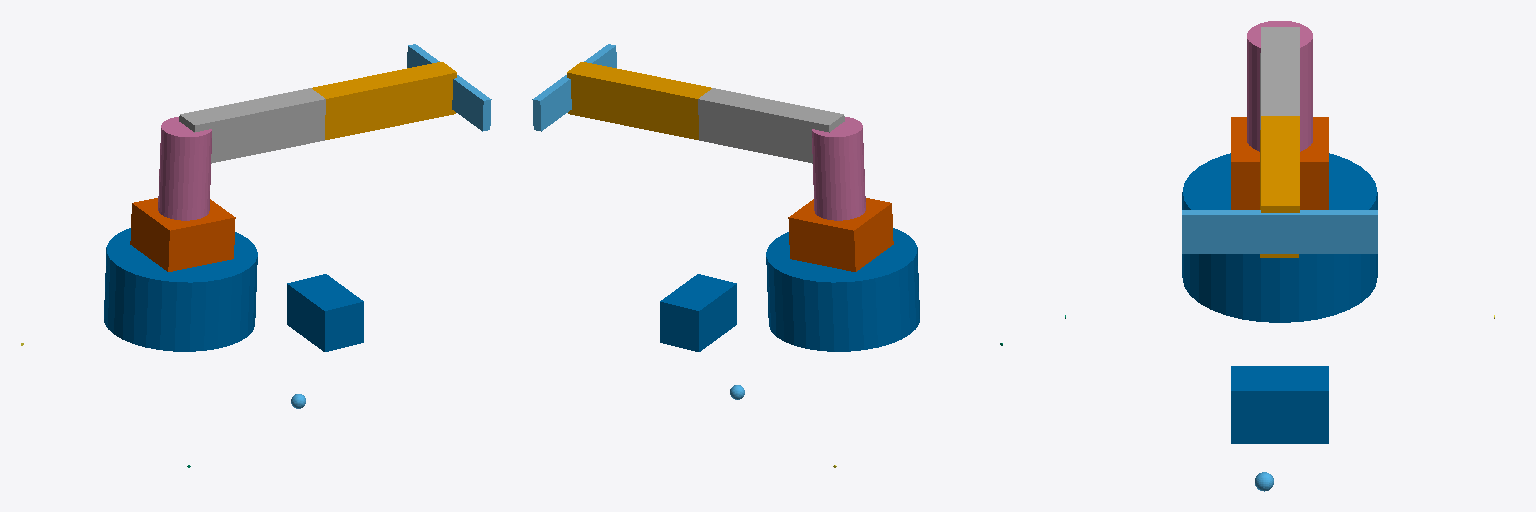
URDF robot description (2wheels):
<?xml version="1.0"?>
<robot name="2wheels" xmlns:xacro="http://www.ros.org/wiki/xacro">
  
  <!-- Chassis link -->
  <link name="base_link">
    <!-- pose and inertial -->
    <pose>0 0 0 0 0 0</pose>
    <inertial>
      <mass value="10.0"/>
      <origin rpy="0 0 0" xyz="0.01 0 0.03"/>
      <inertia ixx="0.007" ixy="0" ixz="0" iyy="0.00547" iyz="0" izz="0.012023"/>
    </inertial>
    <!-- body -->
    <collision name="collision_chassis">
      <origin rpy=" 0 0 0" xyz="0.01 0 0.03"/>
      <geometry>
        <box size="0.18 0.2 0.06"/> <!-- ancho, largo, alto -->
      </geometry>
    </collision>
    <visual>
      <origin rpy="0 0 -1.5708" xyz="0.0 0 0.0"/>
      <geometry>
        <mesh filename="package://two_wheels_description/meshes/robotmodel.dae"/>
      </geometry>
      <material name="blue"/> <!-- This is only for Rviz visualization -->
    </visual>
  </link>
  
  <!-- caster joint -->
  <joint name="joint_caster" type="continuous">
    <origin rpy="0 0 0" xyz="0.085 -0.008 -0.015"/>
    <!--origin rpy="0 0 0" xyz="0.008 0.085 -0.015"/-->
    <child link="caster_wheel"/>
    <parent link="base_link"/>
    <axis rpy="0 0 0" xyz="0 0 1"/>
    <limit effort="1000" velocity="10"/>
    <joint_properties damping="0.0" friction="0.01"/>
  </joint>

  
  <!-- caster front link -->
  <link name="caster_wheel">
    <inertial>
      <mass value="0.05"/>
      <origin rpy="0 0 0" xyz="0 0 0"/>
      <inertia ixx="0.000001" ixy="0" ixz="0" iyy="0.000001" iyz="0" izz="0.000001"/>
    </inertial>
    <collision name="caster_front_collision">
      <origin rpy=" 0 0 0" xyz="0.0 0 0"/>
      <geometry>
        <sphere radius="0.0051"/>
      </geometry>
      <surface>
        <friction>
          <ode>
            <mu>0</mu>
            <mu2>0</mu2>
            <slip1>0.0</slip1>
            <slip2>0.0</slip2>
          </ode>
        </friction>
      </surface>
    </collision>
    <visual name="caster_front_visual">
      <origin rpy=" 0 0 0" xyz="0.0 0 0"/>
      <geometry>
        <sphere radius="0.005"/>
      </geometry>
    </visual>
  </link>
  <gazebo reference="caster_wheel">
    <mu1 value="0.0"/>
    <mu2 value="0.0"/>
    <kp value="10000000.0"/>
    <kd value="1.0"/>
    <fdir1 value="0 0 0"/>
    <material>Gazebo/Black</material>
    <turnGravityOff>false</turnGravityOff>
  </gazebo>
  
  



  
  
  
  <!-- XXXXXXXXXXX -->
  <!-- Right wheel -->
  <!-- XXXXXXXXXXX -->
  <!-- Joint between right wheel and chassis -->
  <joint name="joint_right_wheel" type="continuous">
    <origin rpy="-1.5707 0  0" xyz="-0.0572 -0.11 0.012"/>
    <!--origin rpy="0 1.570 0" xyz="0.11 -0.057 0.012"/-->
    <child link="link_right_wheel"/>
    <parent link="base_link"/>
    <axis rpy="0 0 0" xyz="0 0 1"/>
    <limit effort="1000" velocity="100"/>
    <joint_properties damping="0.01" friction="0.01"/>
  </joint>
  <!-- right link -->
  <link name="link_right_wheel">
    <inertial>
      <mass value="0.1"/>
      <origin rpy="0 0 0" xyz="0 0 0"/>
      <inertia ixx="0.000016458" ixy="0" ixz="0" iyy="0.000016458" iyz="0" izz="0.000016458"/>
    </inertial>
     <surface>
        <friction>
          <ode>
            <mu>0.01</mu>
            <mu2>0.01</mu2>
          </ode>
        </friction>
      </surface>
    <collision name="link_right_wheel_collision">
      <origin rpy="0 0 0" xyz="0 0 0"/>
      <geometry>
        <cylinder length="0.01" radius="0.025"/>
      </geometry>
    </collision>
    <visual name="link_right_wheel_visual">
      <origin rpy="0 0 0" xyz="0 0 0"/>
      <geometry>
        <cylinder length="0.001" radius="0.001"/>
      </geometry>
    </visual>
  </link>

   
  <!-- XXXXXXXXXXX -->
  <!-- LEFT wheel -->
  <!-- XXXXXXXXXXX -->
   <!-- Joint between LEFT wheel and chassis -->
  <joint name="joint_left_wheel" type="continuous">
        <!-- Previous  xyz="-0.095 -0.055 0.01 -->
        <origin rpy="1.5707 0  0" xyz="-0.0572 0.11  0.012"/>
        <!--origin rpy="0 -1.570 0" xyz="-0.11 -0.057 0.012"/--> <!-- PAY ATTENTION NEGATIVE 'y' -->
        <child link="link_left_wheel"/>
        <parent link="base_link"/>
        <axis rpy="0 0 0" xyz="0 0 -1"/>
        <limit effort="1000" velocity="100"/>
        <joint_properties damping="0.01" friction="0.01"/>
  </joint>
  <!-- left link -->
  <link name="link_left_wheel">
        <inertial>
          <mass value="0.1"/>
          <origin rpy="0 0 0" xyz="0 0 0"/>
          <inertia ixx="0.000016458" ixy="0" ixz="0" iyy="0.000016458" iyz="0" izz="0.000016458"/>
        </inertial>
         <surface>
        <friction>
          <ode>
            <mu>0.01</mu>
            <mu2>0.01</mu2>
          </ode>
        </friction>
      </surface>
        <collision name="link_left_wheel_collision">
          <origin rpy="0 0 0" xyz="0 0 0"/>
          <geometry>
            <cylinder length="0.01" radius="0.025"/>
          </geometry>
        </collision>
        <visual name="link_left_wheel_visual">
          <origin rpy="0 0 0" xyz="0 0 0"/>
          <geometry>
            <cylinder length="0.001" radius="0.001"/>
          </geometry>
        </visual>
  </link>

  
 


  <!-- laser link -->
  <link name="base_laser_link">
    <inertial>
      <origin xyz="0 0 0" rpy="0 0 0" />
      <mass value="0.25" />
      <inertia ixx="0.000208333" ixy="0" ixz="0" iyy="0.000208333" iyz="0" izz="0.0003125"/>
    </inertial>
    
    <visual>
      <origin xyz="0 0 0" rpy="0 0 0" />
      <geometry>
        <cylinder radius="0.05" length="0.05"/>
      </geometry>
      <material name="white" />
    </visual>
    
    <collision>
      <origin xyz="0 0 0" rpy="0 0 0"/>
      <geometry>
        <cylinder radius="0.05" length="0.05"/>
      </geometry>
    </collision>
  </link>
  <gazebo reference="base_laser_link"> <!--Color for the link -->
      <material>Gazebo/Black</material>
  </gazebo>

  <!-- joint to attach the laser to the chassis -->
  <joint name="joint_base_laser_link" type="fixed">
    <origin xyz="0.0 0 0.085" rpy="0 0.04 0"/>
    <parent link="base_link"/>
    <child link="base_laser_link"/>
  </joint>

  <!-- Plugin for the wheels -->
  <gazebo>
    <plugin filename="libgazebo_ros_diff_drive.so" name="differential_drive_controller">
      <legacyMode>true</legacyMode> 
      <alwaysOn>true</alwaysOn>
      <updateRate>100</updateRate>
      <leftJoint>joint_right_wheel</leftJoint>
      <rightJoint>joint_left_wheel</rightJoint>
      <wheelSeparation>0.22</wheelSeparation>
      <wheelDiameter>0.025</wheelDiameter>
      <torque>4000</torque>
      <commandTopic>cmd_vel</commandTopic>
      <odometryTopic>odom</odometryTopic>
      <odometryFrame>odom</odometryFrame>
      <robotBaseFrame>base_link_simulated</robotBaseFrame>
    </plugin>
  </gazebo>

    <!-- plugin for the laser -->
   <gazebo reference="base_laser_link">
    <sensor type="ray" name="head_rplidar">
      <pose>0 0 0 0 0 0</pose>
      <visualize>false</visualize>
      <update_rate>10</update_rate><!--10 hz as the RP lidar-->
      <ray>
        <scan>
          <horizontal>
            <samples>1440</samples>
            <resolution>1</resolution>
            <min_angle>-3.141596</min_angle>
            <max_angle>3.141596</max_angle>
          </horizontal>
        </scan>
        <range>
          <min>0.15</min>
          <max>8.0</max>
          <resolution>0.01</resolution>
        </range>
        <noise>
          <type>gaussian</type>
          <mean>0.0</mean>
          <stddev>0.01</stddev>
        </noise>
      </ray>
      <plugin name="gazebo_ros_head_hokuyo_controller" filename="libgazebo_ros_laser.so">
        <topicName>/base_scan</topicName>
        <frameName>base_laser_link</frameName>
      </plugin>
    </sensor>
  </gazebo>

<!-- ARM DEFINITION STARTS HERE -->
    <!-- Joint: This will attach the arm to the laser link -->
  <joint name="laser_to_arm_base" type="fixed">
    <origin rpy="0 0 0" xyz="0 0 0.025"/>
    <parent link="base_laser_link"/>
    <child  link="arm_base_link"/>
  </joint>

    <!-- base of the arm -->
    <link name="arm_base_link">
        <inertial>
            <mass value="0.05"/>
            <origin rpy="0 0 0" xyz="0 0 0"/>
            <inertia ixx="0.000021667" ixy="0" ixz="0" iyy="0.000021667" iyz="0" izz="0.000021667"/>
        </inertial>
        <collision>
            <origin rpy="0 0 0 " xyz="0 0 0.015" />
            <geometry>
                <box size="0.05 0.05 0.03" />
            </geometry>
        </collision>
        <visual>
            <origin rpy="0 0 0 " xyz="0 0 0.015" />
            <geometry>
                <box size="0.05 0.05 0.03" />
            </geometry>
        </visual>
    </link>
    <gazebo reference="arm_base_link"> <!--Color for the arm_link_01 -->
      <material>Gazebo/Red</material>
    </gazebo>
 
 
 
 
    <!--Joint between base and link 1 -->
    <joint name="arm_joint_01" type="revolute">
        <axis xyz="0 0 1"/>
        <limit effort="1000.0" lower="-3.14" upper="3.14" velocity="0.2"/>
        <origin rpy="0 0 0" xyz="0 0 0.03"/>
        <parent link="arm_base_link"/>
        <child link="arm_link_01"/>
    </joint>
    <!-- First link of the arm -->
    <link name="arm_link_01">
         <inertial>
            <mass value="0.0125"/>
            <origin rpy="0 0 0" xyz="0.0 0 0.0"/>
            <inertia ixx="0.0000050279" ixy="0" ixz="0" iyy="0.0000050279" iyz="0" izz="0.0000035225"/>
        </inertial>
        <collision>
            <origin rpy="0 0 0 " xyz="0 0 0.03" />
            <geometry>
                <cylinder radius="0.017" length="0.06"/>
            </geometry>
        </collision>
        <visual>
            <origin rpy="0 0 0 " xyz="0 0 0.03" />
            <geometry>
                <cylinder radius="0.017" length="0.06"/>
            </geometry>
        </visual>
    </link>
    <gazebo reference="arm_link_01"> <!--Color for the arm_link_01 -->
      <material>Gazebo/Orange</material>
    </gazebo>
    
    <!-- Joint 02: between link1 and link2  -->
    <joint name="arm_joint_02" type="revolute">
        <axis xyz="0 0 1"/>
        <limit effort="10000.0" lower="-0.1" upper="1.5707" velocity="0.2"/>
        <origin rpy="1.5707 0 0" xyz="0 0 0.05"/>
        <parent link="arm_link_01"/>
        <child link="arm_link_02"/>
    </joint>
    <!-- Second link of the arm -->
    <link name="arm_link_02">
         <inertial>
            <mass value="0.0125"/>
            <origin rpy="0 0 0" xyz="0.0 0 0.0"/>
            <inertia ixx="0.0000050279" ixy="0" ixz="0" iyy="0.0000050279" iyz="0" izz="0.0000035225"/>
        </inertial>
        <collision>
            <origin rpy="0 0 0 " xyz="0.05 0 0.0" />
            <geometry>
                <box size="0.1 0.03 0.02" />
            </geometry>
        </collision>
        <visual>
            <origin rpy="0 0 0 " xyz="0.05 0 0.0" />
            <geometry>
                <box size="0.1 0.03 0.02" />
            </geometry>
        </visual>
    </link>
    <gazebo reference="arm_link_02"> <!--Color for the arm_link_01 -->
      <material>Gazebo/Orange</material>
    </gazebo>
    
<!-- Joint 3: between link2 and link3 -->
    <joint name="arm_joint_03" type="revolute">
        <axis xyz="0  0  1"/>
        <limit effort="10000.0" lower="-0.1" upper="1.5707" velocity="0.2"/>
        <origin rpy="0 0 0" xyz="0.1 0 0"/>
        <parent link="arm_link_02"/>
        <child link="arm_link_03"/>
    </joint>
    
    <!-- 3rd link of the arm -->
    <link name="arm_link_03">
         <inertial>
            <mass value="0.0125"/>
            <origin rpy="0 0 0" xyz="0.0 0 0.0"/>
            <inertia ixx="0.0000050279" ixy="0" ixz="0" iyy="0.0000050279" iyz="0" izz="0.0000035225"/>
        </inertial>
        <collision>
            <origin rpy="0 0 0 " xyz="0.05 0 0" />
            <geometry>
                <box size="0.1 0.03 0.02" />
            </geometry>
        </collision>
        <visual>
            <origin rpy="0 0 0 " xyz="0.05 0 0" />
            <geometry>
                <box size="0.1 0.03 0.02" />
            </geometry>
        </visual>
    </link>
    <gazebo reference="arm_link_03"> <!--Color for the arm_link_01 -->
      <material>Gazebo/Orange</material>
    </gazebo>
    
    <!-- Joint 4: between link3 and link4 -->
    <joint name="arm_joint_04" type="revolute">
        <axis xyz="0 0 1"/>
        <limit effort="10000.0" lower="-1.8" upper="1.8" velocity="0.5"/>
        <origin rpy="0 1.570796 0" xyz="0.1 0 0.0"/>
        <parent link="arm_link_03"/>
        <child link="arm_link_04"/>
    </joint>
     
    <!-- Fourth link of the arm (base of the gripper)-->
    <link name="arm_link_04">
         <inertial>
            <mass value="0.0125"/>
            <origin rpy="0 0 0" xyz="0.0 0 0.0"/>
            <inertia ixx="0.0000050279" ixy="0" ixz="0" iyy="0.0000050279" iyz="0" izz="0.0000035225"/>
        </inertial>
        <collision>
            <origin rpy="0 0 0 " xyz="0 0 0.0" />
            <geometry>
                <box size="0.08 0.04 0.02  " />
            </geometry>
        </collision>
        <visual>
            <origin rpy="0 0 0 " xyz="0 0 0.00" />
            <geometry>
                 <box size="0.1 0.022 0.006 " />
            </geometry>
        </visual>
    </link>
    <gazebo reference="arm_link_04"> <!--Color for the arm_link_01 -->
      <material>Gazebo/Black</material>
    </gazebo>
    


<!-- GRIPPER STARTS HERE -->
 <!--  right Grip joint sub -->
  <joint name="right_grip_joint" type="prismatic">
    <parent link="arm_link_04"/>
    <child link="right_grip_link"/>
    <origin  xyz="0.0 0 0" rpy="0 -1.570796 0"/>
    <axis xyz="0 0 1"/>
    <limit velocity="0.4" effort="100000" lower="0" upper="0.05" />
  </joint>
  <!--  right Grip link sub -->
  <link name="right_grip_link">
    <collision>
  <origin xyz="0 0 0.005" rpy="1.5707 3.14159 3.14159"/> 
      <geometry>
        <mesh filename="package://two_wheels_description/meshes/chain_link_grip_r.stl" scale="0.001 0.001 0.001"/>
      </geometry>
    </collision>

    <visual>
      <origin xyz="0 0 0.005" rpy="1.5707 3.14159 3.14159"/> 
      <geometry>
        <mesh filename="package://two_wheels_description/meshes/chain_link_grip_r.stl" scale="0.0005 0.0005 0.0005"/>
      </geometry>
    </visual>

    <inertial>
      <origin xyz="0 0 0" />
      <mass value="0.001" />
      <inertia ixx="0.001" ixy="0.0" ixz="0.0"
               iyy="0.001" iyz="0.0"
               izz="0.001" />
    </inertial>
  </link>
  <gazebo reference="right_grip_link"> <!--Color  -->
      <material>Gazebo/Gold</material>
    </gazebo>

 
<!--  LEFT Grip joint -->
  <joint name="left_grip_joint" type="prismatic">
    <parent link="arm_link_04"/>
    <child link="left_grip_link"/>
    <origin xyz="0.0 0.0 0" rpy="3.14159 -1.570796 0"/>
    <axis xyz="0 0 1"/>
    <limit velocity="0.4" effort="100000" lower="0" upper="0.05" />
</joint>
<!--  Grip link -->
  <link name="left_grip_link">
    <collision>
     <origin xyz="0 0 0.005" rpy="1.5707 0 0 "/>    <!-- 'x' value indicates aperture of gripper -->
      <geometry>
        <mesh filename="package://two_wheels_description/meshes/chain_link_grip_l.stl" scale="0.001 0.001 0.001"/>
      </geometry>
    </collision>

    <visual>
     <origin xyz="0 0 0.005" rpy="1.5707 0 0 "/> 
      <geometry>
        <mesh filename="package://two_wheels_description/meshes/chain_link_grip_l.stl" scale="0.0005 0.0005 0.0005"/>
      </geometry>
    </visual>

    <inertial>
      <origin xyz="0 0 0" />
      <mass value="0.001" />
      <inertia ixx="0.001" ixy="0.0" ixz="0.0"
               iyy="0.001" iyz="0.0"
               izz="0.001" />
    </inertial>
  </link>
   <gazebo reference="left_grip_link"> <!--Color  -->
      <material>Gazebo/Gold</material>
    </gazebo>

  

<!-- Transmission 1 -->
  <transmission name="arm_joint_01_trans">
    <type>transmission_interface/SimpleTransmission</type>
    <joint name="arm_joint_01">
      <hardwareInterface>hardware_interface/EffortJointInterface</hardwareInterface>
    </joint>
    <actuator name="motor1">
      <hardwareInterface>hardware_interface/EffortJointInterface</hardwareInterface>
      <mechanicalReduction>1</mechanicalReduction>
    </actuator>
  </transmission>


<!-- Transmission 2 -->
  <transmission name="arm_joint_02_trans">
    <type>transmission_interface/SimpleTransmission</type>
    <joint name="arm_joint_02">
      <hardwareInterface>hardware_interface/EffortJointInterface</hardwareInterface>
    </joint>
    <actuator name="motor2">
      <hardwareInterface>hardware_interface/EffortJointInterface</hardwareInterface>
      <mechanicalReduction>1</mechanicalReduction>
    </actuator>
  </transmission>
  
  <!-- Transmission 3 -->
  <transmission name="arm_joint_03_trans">
    <type>transmission_interface/SimpleTransmission</type>
    <joint name="arm_joint_03">
      <hardwareInterface>hardware_interface/EffortJointInterface</hardwareInterface>
    </joint>
    <actuator name="motor3">
      <hardwareInterface>hardware_interface/EffortJointInterface</hardwareInterface>
      <mechanicalReduction>1</mechanicalReduction>
    </actuator>
  </transmission>

<!-- Transmission 4 -->
  <transmission name="arm_joint_04_trans">
    <type>transmission_interface/SimpleTransmission</type>
    <joint name="arm_joint_04">
      <hardwareInterface>hardware_interface/EffortJointInterface</hardwareInterface>
    </joint>
    <actuator name="motor4">
      <hardwareInterface>hardware_interface/EffortJointInterface</hardwareInterface>
      <mechanicalReduction>1</mechanicalReduction>
    </actuator>
  </transmission>

<!-- Transmission 5 -->
  <transmission name="left_grip_tran">
    <type>transmission_interface/SimpleTransmission</type>
    <joint name="left_grip_joint">
      <hardwareInterface>hardware_interface/EffortJointInterface</hardwareInterface>
    </joint>
    <actuator name="motor5">
      <hardwareInterface>hardware_interface/EffortJointInterface</hardwareInterface>
      <mechanicalReduction>1</mechanicalReduction>
    </actuator>
  </transmission>


<!-- Transmission 6 -->
  <transmission name="right_grip_tran">
    <type>transmission_interface/SimpleTransmission</type>
    <joint name="right_grip_joint">
      <hardwareInterface>hardware_interface/EffortJointInterface</hardwareInterface>
    </joint>
    <actuator name="motor6">
      <hardwareInterface>hardware_interface/EffortJointInterface</hardwareInterface>
      <mechanicalReduction>1</mechanicalReduction>
    </actuator>
</transmission>


  <!-- XXXXXXXXXXXXXXXXXXXXXXXXXXXXXX
  Simulation of a camera:
  XXXXXXXXXXXXXXXXXXXXXXXXXXXXX-->
  <joint name="camera1_joint"  type="revolute">
        <axis xyz="0 1 0"/>
        <limit effort="100000.0" lower="-0.8" upper="0.3" velocity="0.2"/>
         <origin xyz="0.11 0.0 0.04" rpy="0 0 0"/>
        <parent link="base_link"/>
         <child link="camera1_link"/>
    </joint>
 <!-- Camera -->
  <link name="camera1_link">
    <collision>
      <origin xyz="0 0 0" rpy="0 0 0"/>
      <geometry>
    <box size="0.03 0.05 0.03"/>
      </geometry>
    </collision>

    <visual>
      <origin xyz="0 0 0" rpy="0 0 0"/>
      <geometry>
        <box size="0.03 0.05 0.03"/>
      </geometry>
    </visual>
    <inertial>
      <mass value="0.04" />
      <origin xyz="0 0 0" rpy="0 0 0"/>
      <inertia ixx="0.000001" ixy="0" ixz="0" iyy="0.000001" iyz="0" izz="0.000001" />
    </inertial>
  </link>
  <gazebo reference="camera1_link"> <!--Color for the camera1_link -->
      <material>Gazebo/Black</material>
  </gazebo>
  
  <!-- Transmission camera -->
  <transmission name="camera1_tran">
    <type>transmission_interface/SimpleTransmission</type>
    <joint name="camera1_joint">
      <hardwareInterface>hardware_interface/EffortJointInterface</hardwareInterface>
    </joint>
    <actuator name="motor_camera1">
      <hardwareInterface>hardware_interface/EffortJointInterface</hardwareInterface>
      <mechanicalReduction>1</mechanicalReduction>
    </actuator>
  </transmission>
  <!-- Plugin for the camera -->
   <gazebo reference="camera1_link">
    <sensor type="camera" name="camera1">
      <update_rate>30.0</update_rate>
      <camera name="camera1">
        <horizontal_fov>1</horizontal_fov>
        <image>
          <width>640</width>
          <height>480</height>
          <format>R8G8B8</format>
        </image>
        <clip>
          <near>0.02</near>
          <far>300</far>
        </clip>
        <noise>
          <type>gaussian</type>
          <!-- Noise is sampled independently per pixel on each frame.
               That pixel's noise value is added to each of its color
               channels, which at that point lie in the range [0,1]. -->
          <mean>0.0</mean>
          <stddev>0.007</stddev>
        </noise>
      </camera>
      <plugin name="camera1_controller" filename="libgazebo_ros_camera.so">
        <alwaysOn>true</alwaysOn>
        <updateRate>0.0</updateRate>
        <cameraName>two_wheels_robot/camera1</cameraName>
        <imageTopicName>image_raw</imageTopicName>
        <cameraInfoTopicName>camera_info</cameraInfoTopicName>
        <frameName>camera_link</frameName>
        <hackBaseline>0.07</hackBaseline>
        <distortionK1>0.0</distortionK1>
        <distortionK2>0.0</distortionK2>
        <distortionK3>0.0</distortionK3>
        <distortionT1>0.0</distortionT1>
        <distortionT2>0.0</distortionT2>
      </plugin>
    </sensor>
  </gazebo>

<!-- ros_control Gazebo plugin -->
  <gazebo>
    <plugin name="gazebo_ros_control" filename="libgazebo_ros_control.so">
      <robotNamespace>/two_wheels_robot</robotNamespace>
      <robotSimType>gazebo_ros_control/DefaultRobotHWSim</robotSimType>
    </plugin>
  </gazebo>

    
</robot>

--- Facts derived from the render (not from the file) ---
The picture shows the robot from 3 angles, left to right: view 1: azimuth 30°, elevation 25°; view 2: azimuth 150°, elevation 25°; view 3: azimuth 270°, elevation 25°; orthographic projection.
Robot: 2wheels — 13 links, 12 joints (5 revolute, 3 continuous, 2 prismatic, 2 fixed); root link base_link; default pose: all joints at 0.
Links seen in each view (by area): view 1: base_laser_link, arm_link_03, arm_link_02, arm_base_link, arm_link_01, camera1_link, arm_link_04; view 2: base_laser_link, arm_link_03, arm_link_02, arm_base_link, arm_link_01, camera1_link, arm_link_04; view 3: base_laser_link, arm_link_04, camera1_link, arm_base_link, arm_link_03, arm_link_02, arm_link_01.
Link boxes in pixels (x1=…): base_laser_link: x1=104, y1=228, x2=257, y2=351; arm_link_03: x1=312, y1=62, x2=456, y2=139; arm_link_02: x1=179, y1=88, x2=325, y2=163; arm_base_link: x1=130, y1=198, x2=235, y2=271; arm_link_01: x1=158, y1=117, x2=211, y2=220; camera1_link: x1=287, y1=274, x2=363, y2=351; arm_link_04: x1=407, y1=44, x2=491, y2=131; base_laser_link: x1=766, y1=228, x2=919, y2=351; arm_link_03: x1=567, y1=62, x2=711, y2=139; arm_link_02: x1=698, y1=88, x2=844, y2=163; arm_base_link: x1=788, y1=198, x2=893, y2=271; arm_link_01: x1=812, y1=117, x2=865, y2=220; camera1_link: x1=660, y1=274, x2=736, y2=351; arm_link_04: x1=532, y1=44, x2=616, y2=131; base_laser_link: x1=1182, y1=153, x2=1377, y2=322; arm_link_04: x1=1182, y1=210, x2=1377, y2=253; camera1_link: x1=1231, y1=366, x2=1328, y2=443; arm_base_link: x1=1231, y1=117, x2=1328, y2=209; arm_link_03: x1=1260, y1=116, x2=1299, y2=257; arm_link_02: x1=1260, y1=27, x2=1299, y2=129; arm_link_01: x1=1247, y1=21, x2=1312, y2=151.
Bounding box of the posed robot: 0.2657 × 0.221 × 0.2249 m (x, y, z).
Meshes: 3 distinct files referenced, 0 mesh visuals loaded (none loaded); not drawn: 2 (reference not matched to a file when rendering), 1 (file found but could not be loaded).
